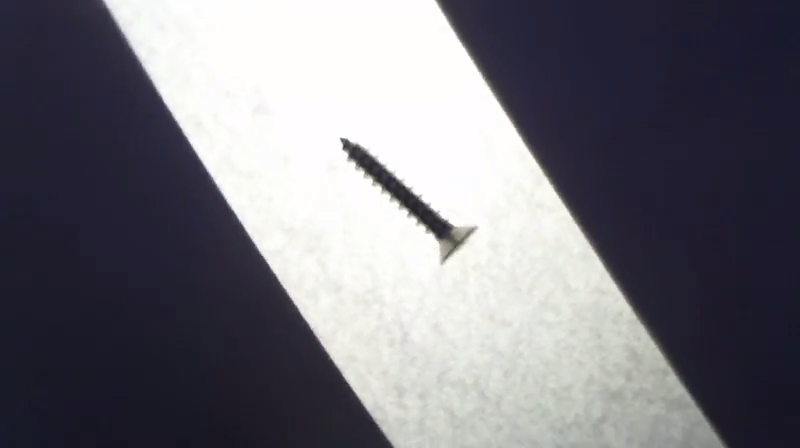S001: (338, 134, 482, 269)
